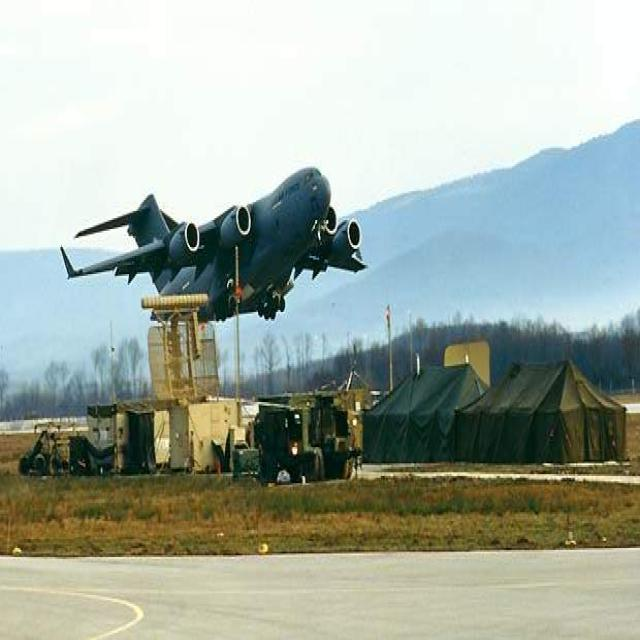MIL_Plane: (60, 166, 369, 321)
